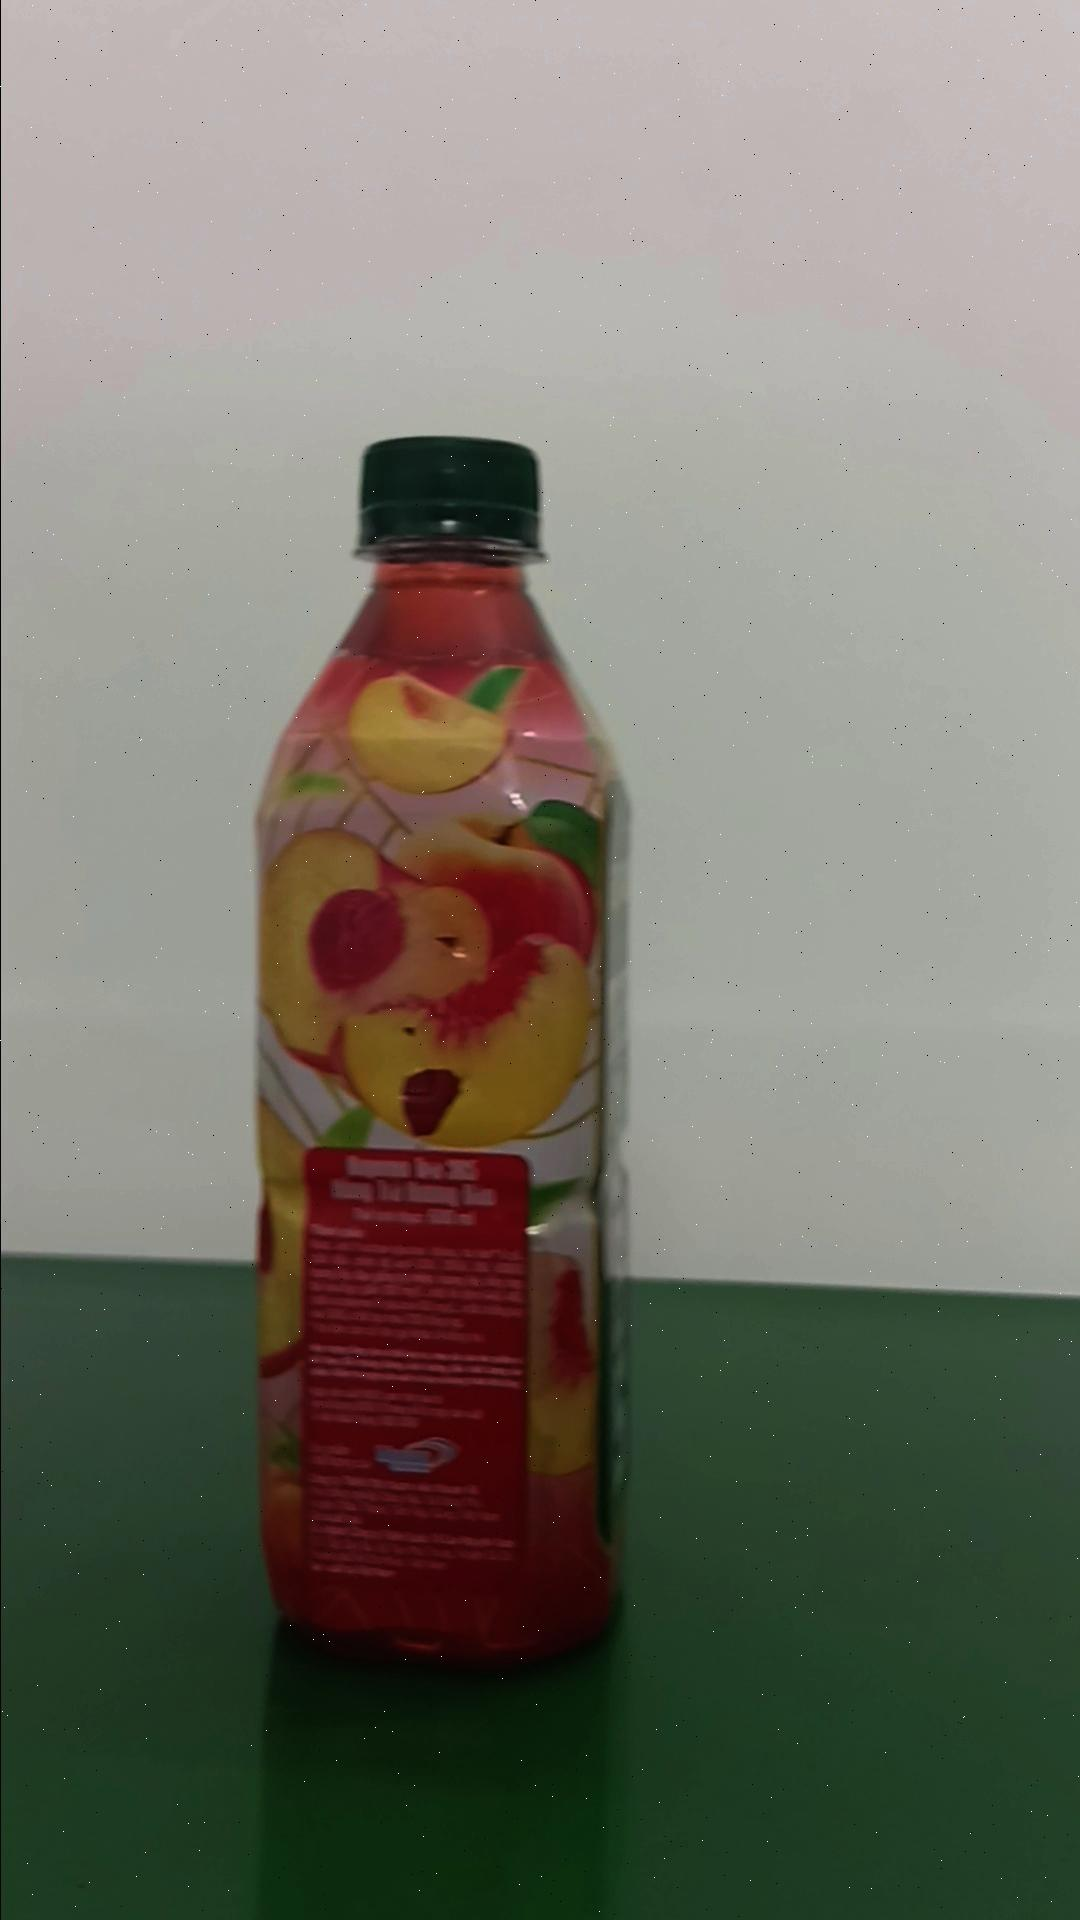loi rach va lap chai: (249, 431, 622, 1676)
